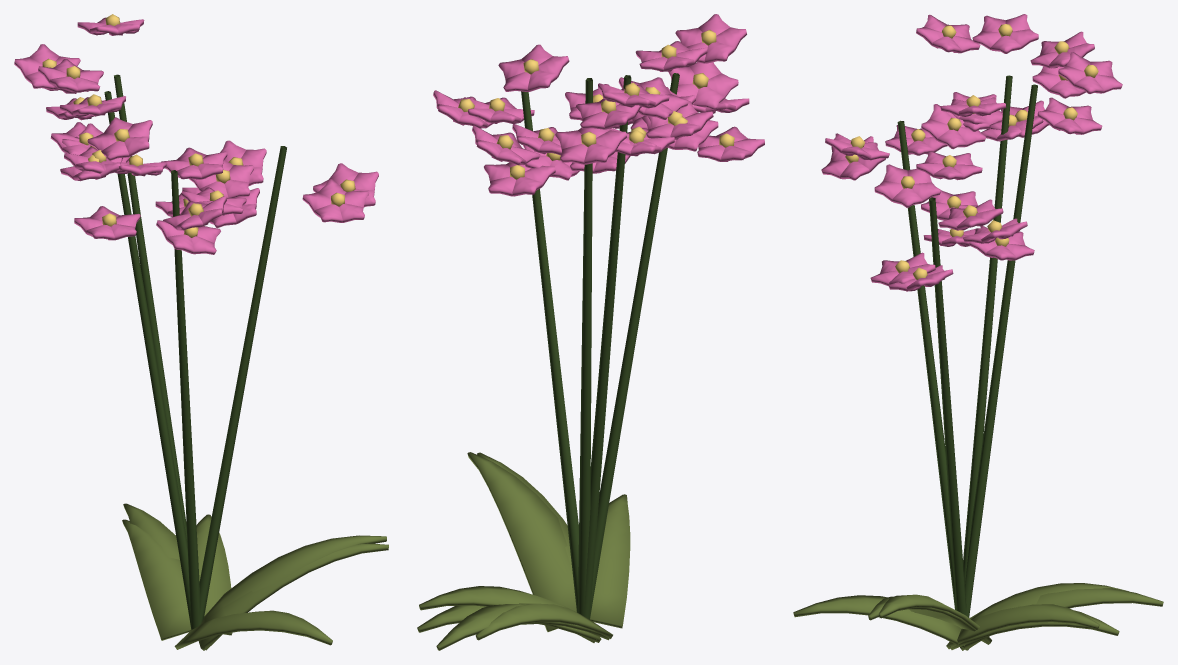
The model's file is flora_pink.glb.
The picture shows the model from 3 angles, left to right: view 1: azimuth 30°, elevation 25°; view 2: azimuth 150°, elevation 25°; view 3: azimuth 270°, elevation 25°; orthographic projection. The views are drawn at different scales.
Parts seen in each view (by area): view 1: petal_pink, stem, leaf_olive, stamen; view 2: petal_pink, stem, leaf_olive, stamen; view 3: petal_pink, stem, leaf_olive, stamen.
Part boxes in pixels (x1=…): petal_pink: x1=14, y1=17, x2=378, y2=254; stem: x1=104, y1=74, x2=286, y2=629; leaf_olive: x1=122, y1=503, x2=388, y2=650; stamen: x1=42, y1=14, x2=355, y2=237; petal_pink: x1=433, y1=14, x2=764, y2=196; stem: x1=521, y1=73, x2=679, y2=619; leaf_olive: x1=417, y1=452, x2=630, y2=650; stamen: x1=458, y1=30, x2=734, y2=179; petal_pink: x1=821, y1=14, x2=1122, y2=291; stem: x1=897, y1=75, x2=1037, y2=617; leaf_olive: x1=793, y1=583, x2=1163, y2=650; stamen: x1=845, y1=24, x2=1098, y2=279.
Bounding box in the file's own units: 0.5773 × 1.08 × 0.6426.
